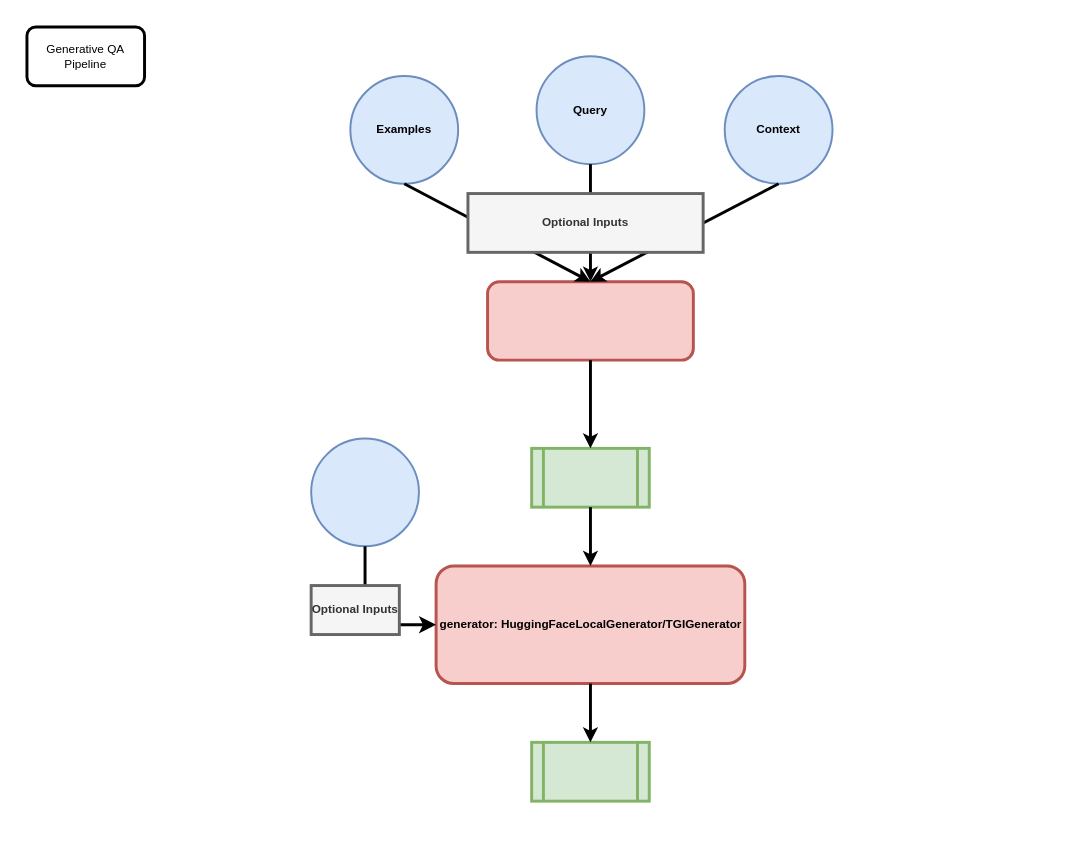
This 1092x847 diagram has some shape labels left out. The shapes that lost their labels are listed below. From the top down, each one's centre as x and y in pixels, then its label:
the point at 590,320: prompt_builder: PromptBuilder
the point at 364,492: generation_kwargs
the point at 590,477: prompt: str
the point at 590,771: replies List[str]
